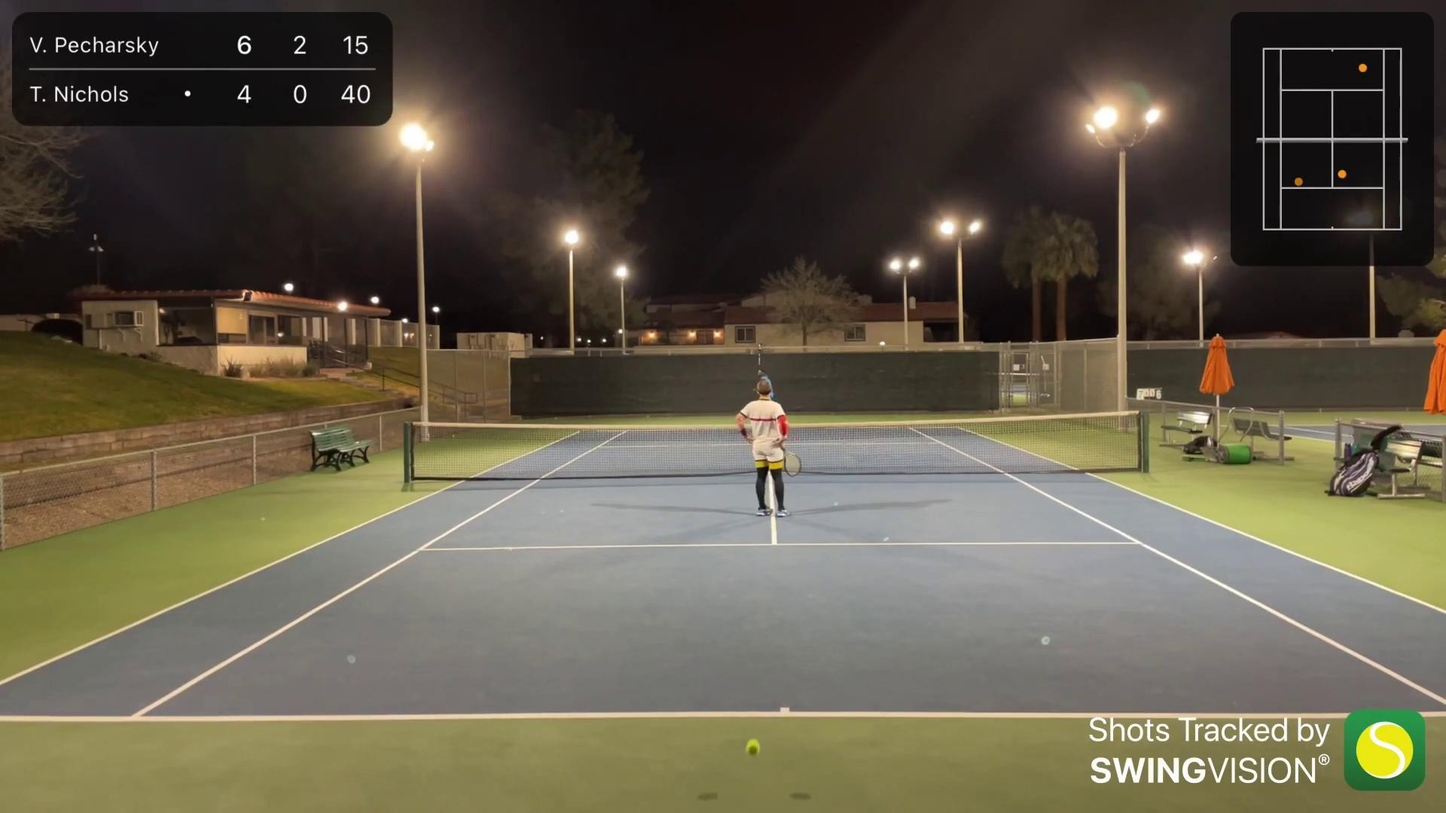ball: (746, 739, 757, 753)
